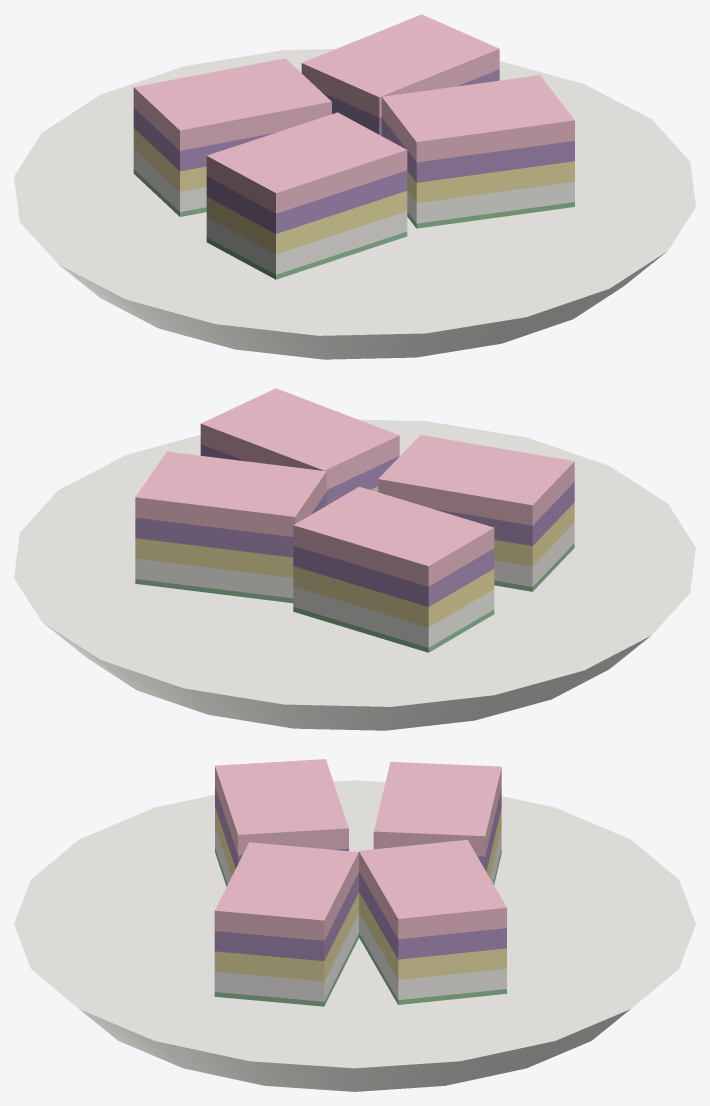
The model's file is dia_banh_da_lon.glb.
3 views of the same model, one above another, from view 1: azimuth 30°, elevation 25°; view 2: azimuth 150°, elevation 25°; view 3: azimuth 270°, elevation 25° (orthographic).
Visible parts, largest first — view 1: dia_banh_da_lon.001, slice0_l4, slice1_l4, slice2_l4, slice3_l4, slice0_l3, slice0_l1, slice0_l2, slice1_l3, slice1_l2, slice1_l1, slice2_l3 (+5 smaller); view 2: dia_banh_da_lon.001, slice2_l4, slice0_l4, slice3_l4, slice1_l4, slice2_l3, slice2_l2, slice2_l1, slice3_l3, slice3_l1, slice3_l2, slice0_l3 (+5 smaller); view 3: dia_banh_da_lon.001, slice3_l4, slice1_l4, slice0_l4, slice2_l4, slice3_l1, slice3_l2, slice3_l3, slice1_l3, slice1_l2, slice1_l1, slice3_l0 (+2 smaller).
Part boxes in pixels (box(x1,y1,x2,y2)): dia_banh_da_lon.001: box(14, 49, 695, 359); slice0_l4: box(206, 112, 407, 213); slice1_l4: box(381, 75, 574, 162); slice2_l4: box(133, 58, 331, 150); slice3_l4: box(301, 14, 499, 117); slice0_l3: box(206, 170, 407, 233); slice0_l1: box(206, 211, 407, 274); slice0_l2: box(206, 191, 407, 254); slice1_l3: box(381, 117, 574, 182); slice1_l2: box(407, 161, 574, 203); slice1_l1: box(407, 181, 574, 223); slice2_l3: box(133, 108, 275, 171); dia_banh_da_lon.001: box(14, 419, 695, 730); slice2_l4: box(293, 486, 494, 586); slice0_l4: box(378, 435, 574, 525); slice3_l4: box(135, 451, 326, 536); slice1_l4: box(200, 388, 399, 489); slice2_l3: box(293, 545, 494, 606); slice2_l2: box(293, 566, 494, 627); slice2_l1: box(293, 586, 494, 647); slice3_l3: box(135, 492, 326, 557); slice3_l1: box(135, 558, 293, 598); slice3_l2: box(135, 538, 293, 577); slice0_l3: box(432, 482, 574, 545); dia_banh_da_lon.001: box(14, 780, 695, 1091); slice3_l4: box(359, 839, 506, 939); slice1_l4: box(214, 842, 358, 940); slice0_l4: box(215, 759, 348, 855); slice2_l4: box(373, 762, 501, 856); slice3_l1: box(359, 912, 506, 999); slice3_l2: box(359, 892, 506, 979); slice3_l3: box(359, 872, 506, 959); slice1_l3: box(214, 872, 358, 960); slice1_l2: box(214, 893, 358, 981); slice1_l1: box(214, 913, 358, 1001); slice3_l0: box(359, 933, 506, 1004).
Size of the model in its own units: 0.28 by 0.059 by 0.28.
